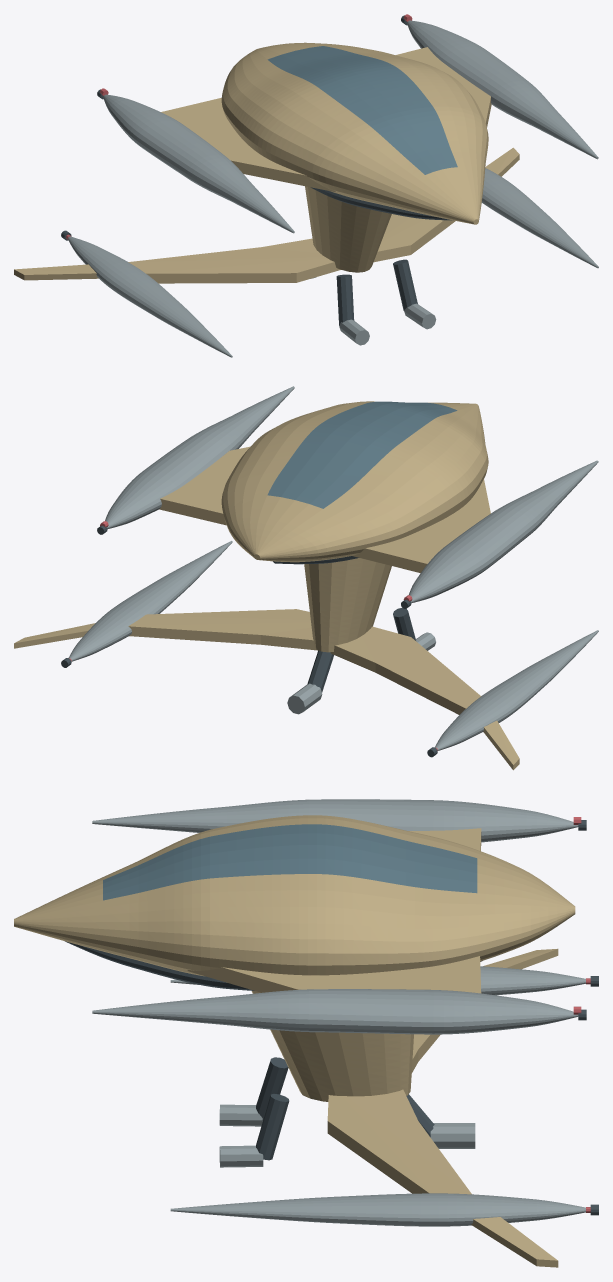
Rendered from arma_gold_landed.glb.
3 renders of one model, top to bottom at view 1: azimuth 30°, elevation 25°; view 2: azimuth 150°, elevation 25°; view 3: azimuth 270°, elevation 25°, orthographic. The views are drawn at different scales.
Visible parts, largest first — view 1: material_0, material_3, material_1, material_2; view 2: material_0, material_3, material_1, material_2; view 3: material_0, material_3, material_1, material_2.
Part boxes in pixels (<box>): material_0: <box>14,42,519,283</box>; material_3: <box>67,20,598,357</box>; material_1: <box>267,46,457,174</box>; material_2: <box>61,15,453,325</box>; material_0: <box>14,401,519,770</box>; material_3: <box>68,386,598,750</box>; material_1: <box>267,401,457,508</box>; material_2: <box>61,525,437,757</box>; material_0: <box>14,815,575,1267</box>; material_3: <box>92,799,585,1226</box>; material_1: <box>103,824,477,900</box>; material_2: <box>65,820,598,1215</box>.
Size of the model in its own units: 4.8 by 2.17 by 3.81.
